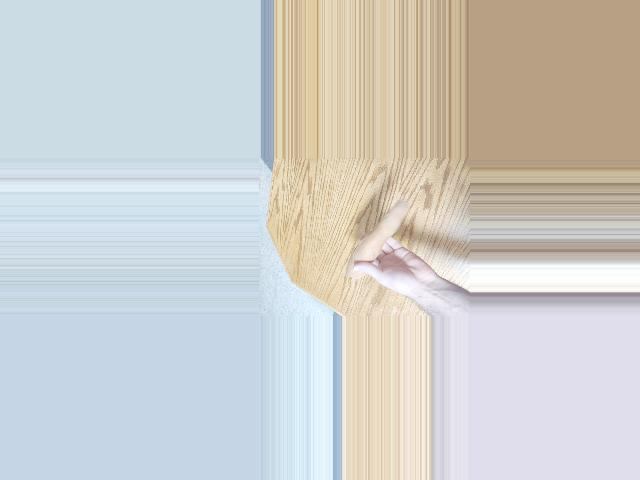sweet_potato: (350, 200, 411, 278)
